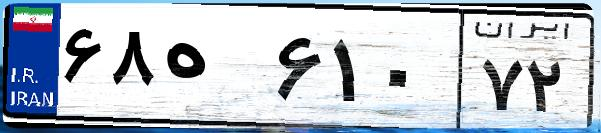0: (385, 28, 445, 110)
1: (330, 28, 385, 110)
2: (525, 38, 570, 115)
6: (270, 28, 330, 110), (57, 26, 110, 100)
7: (475, 38, 525, 113)
8: (110, 28, 158, 98)
ه: (158, 20, 270, 120)
